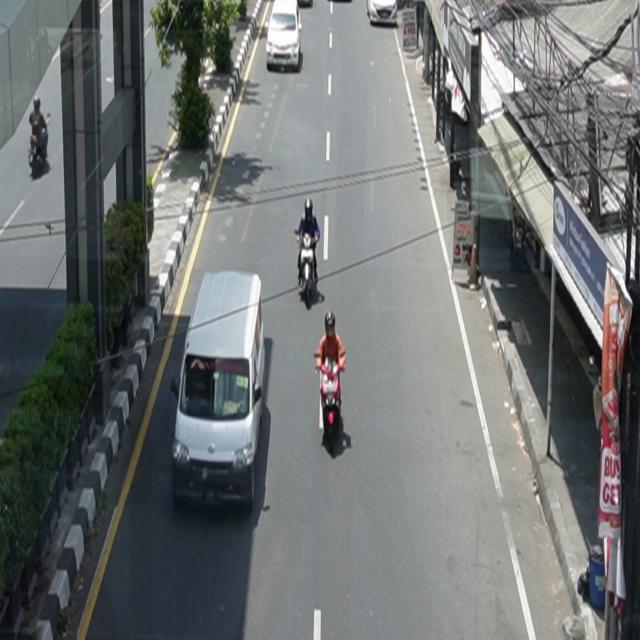bus: (171, 270, 266, 511)
car: (267, 1, 304, 73), (367, 1, 398, 26)
